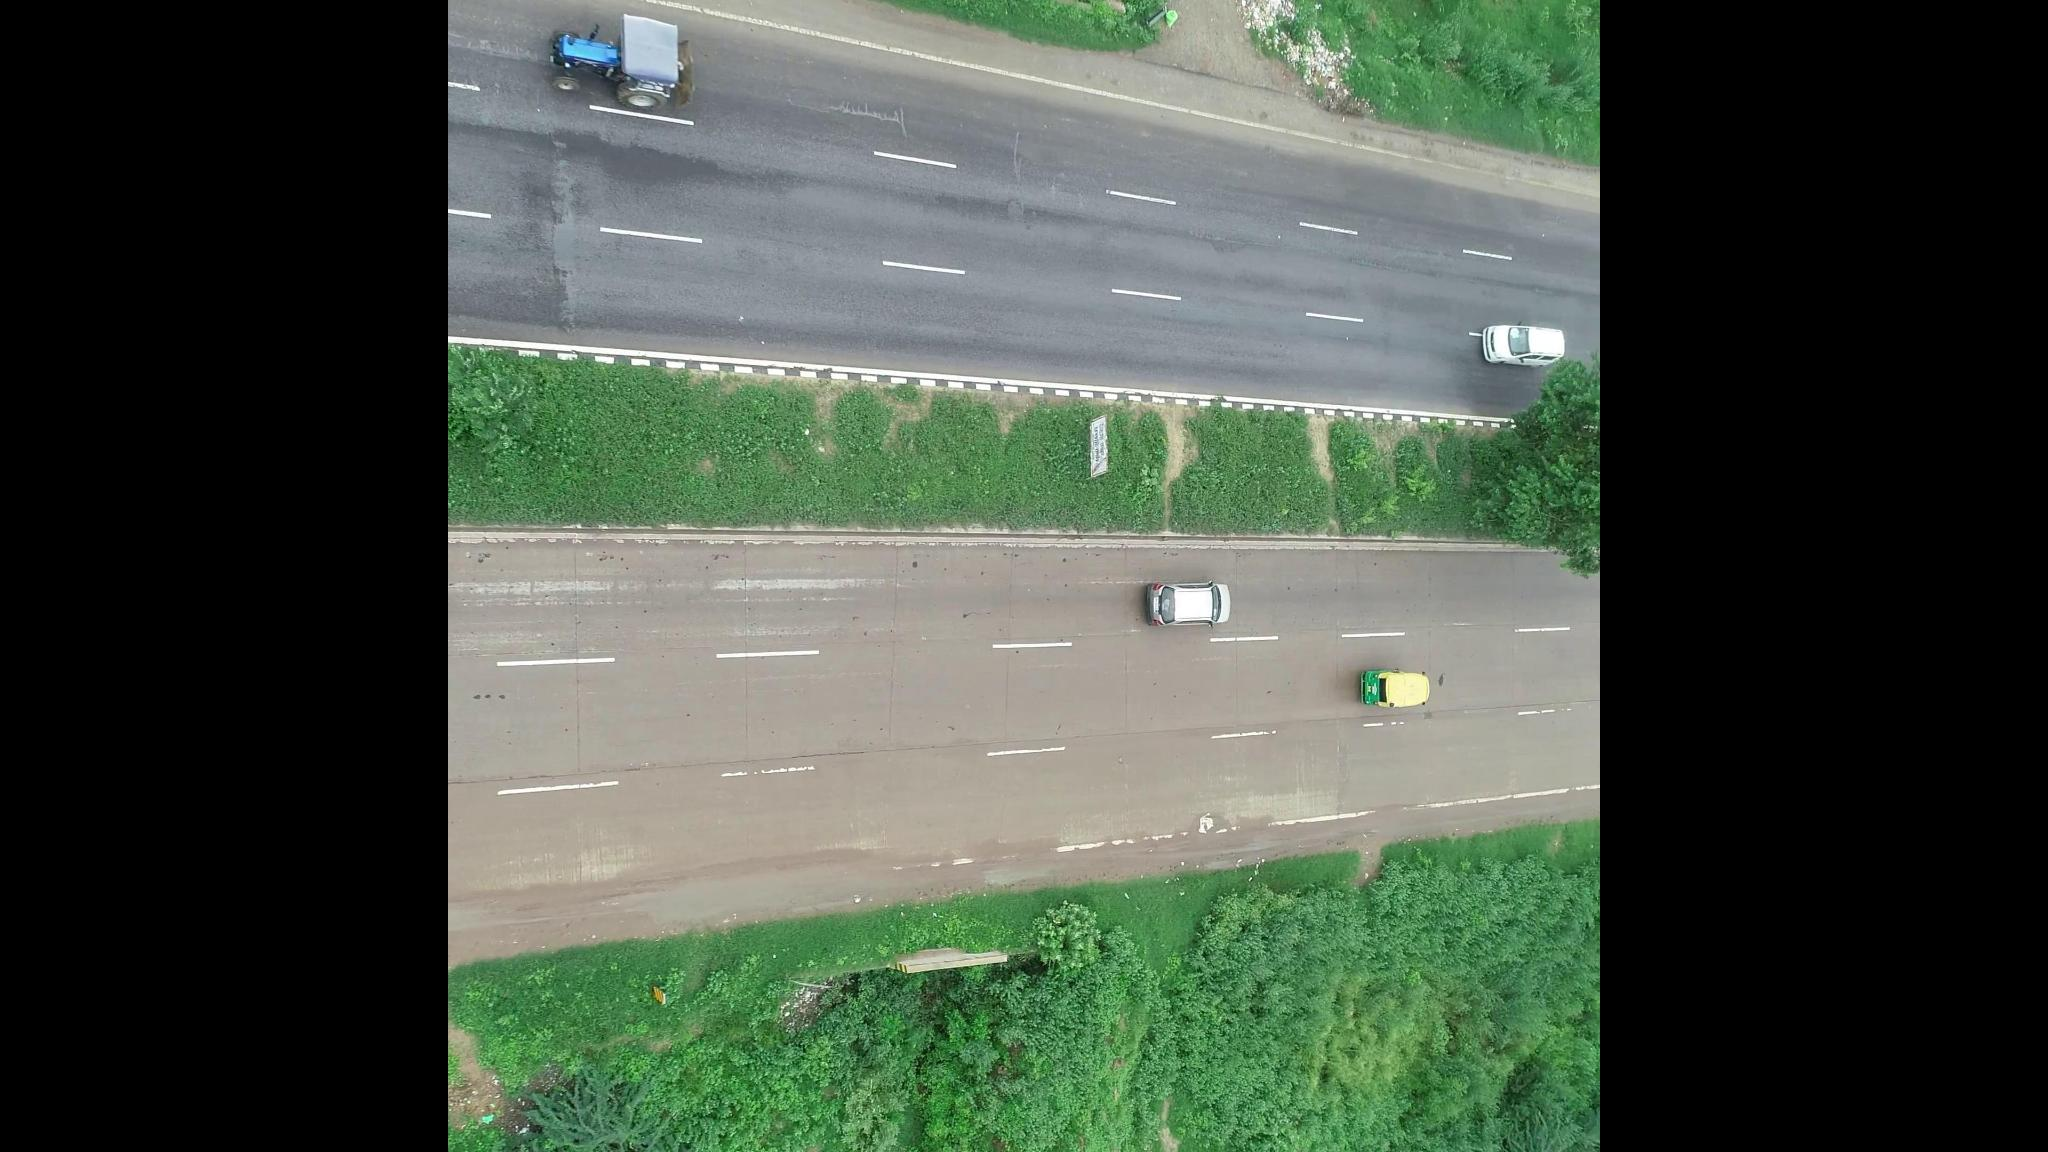Cracks: (778, 90, 916, 135)
Road_side_garbage: (1248, 1, 1333, 86)
